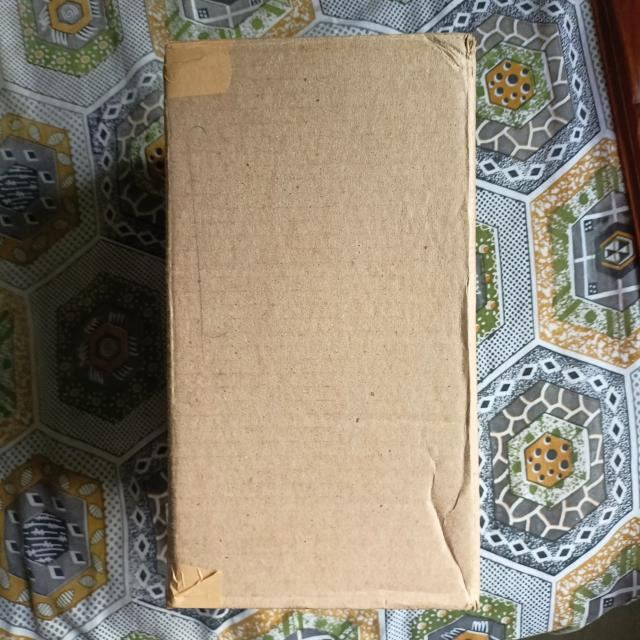box: (168, 38, 478, 610)
